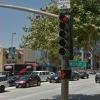Bus: (12, 58, 38, 74)
